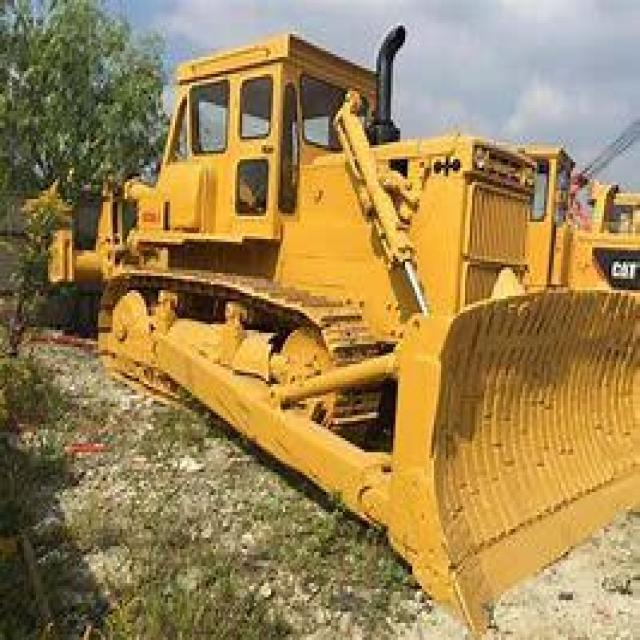buldozerpayloadergrader: (43, 9, 638, 632)
